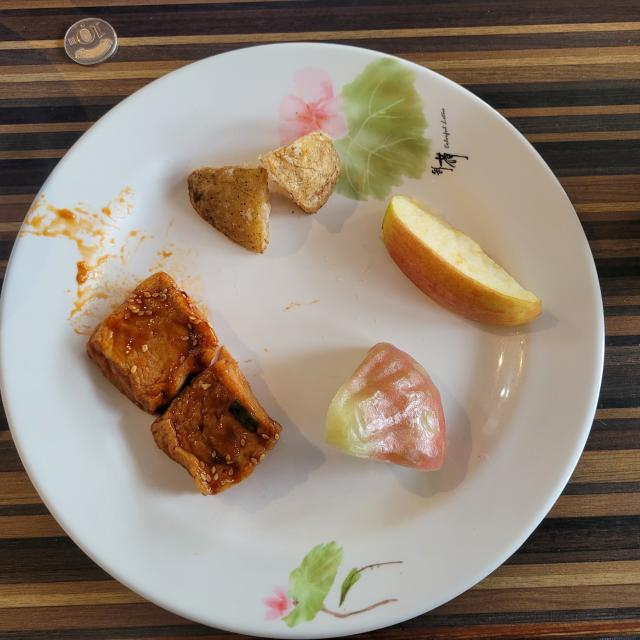apple -sliced-: (382, 195, 541, 326)
coin: (64, 18, 118, 65)
creamy tofu: (88, 271, 281, 495)
fried potato: (188, 132, 340, 254)
